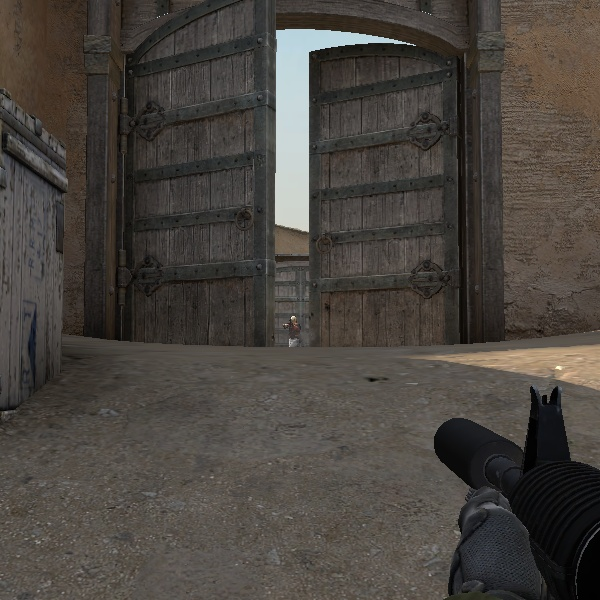t_body: (281, 313, 305, 352)
t_head: (289, 314, 299, 325)
